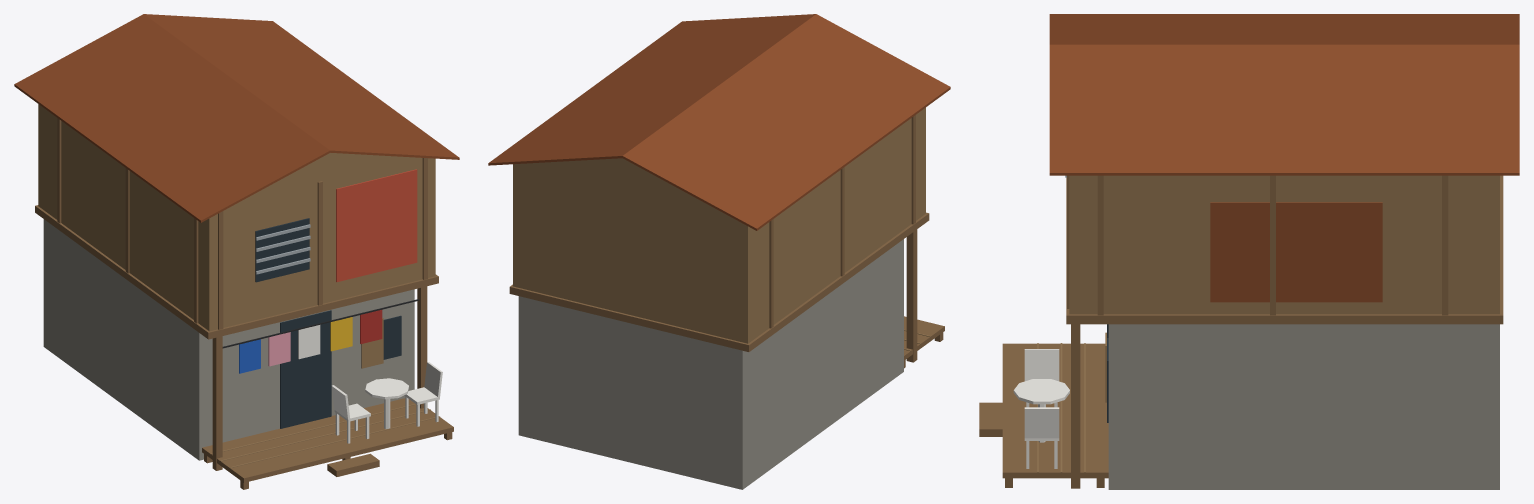
Rendered from BAY_I_Shanty2F_O.glb.
3 renders of one model, left to right at view 1: azimuth 30°, elevation 25°; view 2: azimuth 150°, elevation 25°; view 3: azimuth 270°, elevation 25°, orthographic. The views are drawn at different scales.
Parts seen in each view (by area): view 1: BAY_I_Shanty2F_O; view 2: BAY_I_Shanty2F_O; view 3: BAY_I_Shanty2F_O.
Boxes of the visible parts, bbox=[...] form: BAY_I_Shanty2F_O: bbox=[14, 14, 459, 489]; BAY_I_Shanty2F_O: bbox=[488, 14, 950, 489]; BAY_I_Shanty2F_O: bbox=[979, 14, 1519, 489].
Bounding box in the file's own units: 4.8 × 5.34 × 6.9.
1 material, 1 textured.
